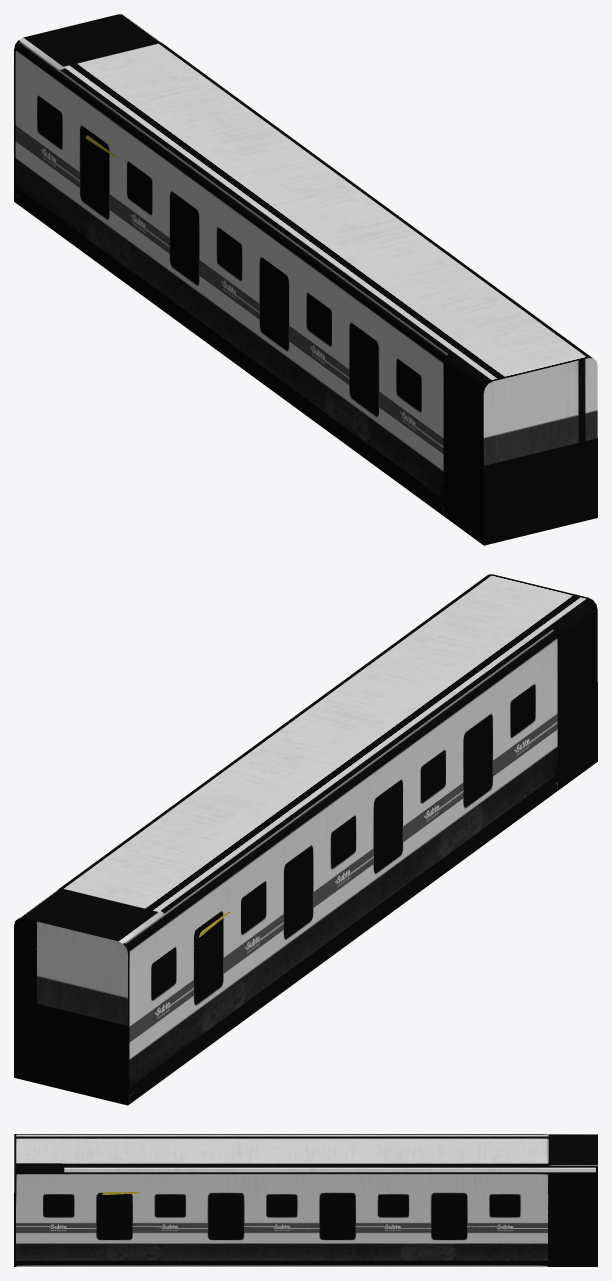
Rendered from subte.fbx.
3 renders of one model, top to bottom at view 1: azimuth 30°, elevation 25°; view 2: azimuth 150°, elevation 25°; view 3: azimuth 270°, elevation 25°, orthographic. The views are drawn at different scales.
Visible parts, largest first — view 1: carroceria; view 2: carroceria; view 3: carroceria.
Boxes of the visible parts, box(x1,y1,x2,y2) form: carroceria: box(14, 14, 597, 545); carroceria: box(14, 574, 597, 1105); carroceria: box(14, 1134, 597, 1266).
Bounding box in the file's own units: 280 × 380 × 2000.
Materials: 4 (1 with a texture image).
